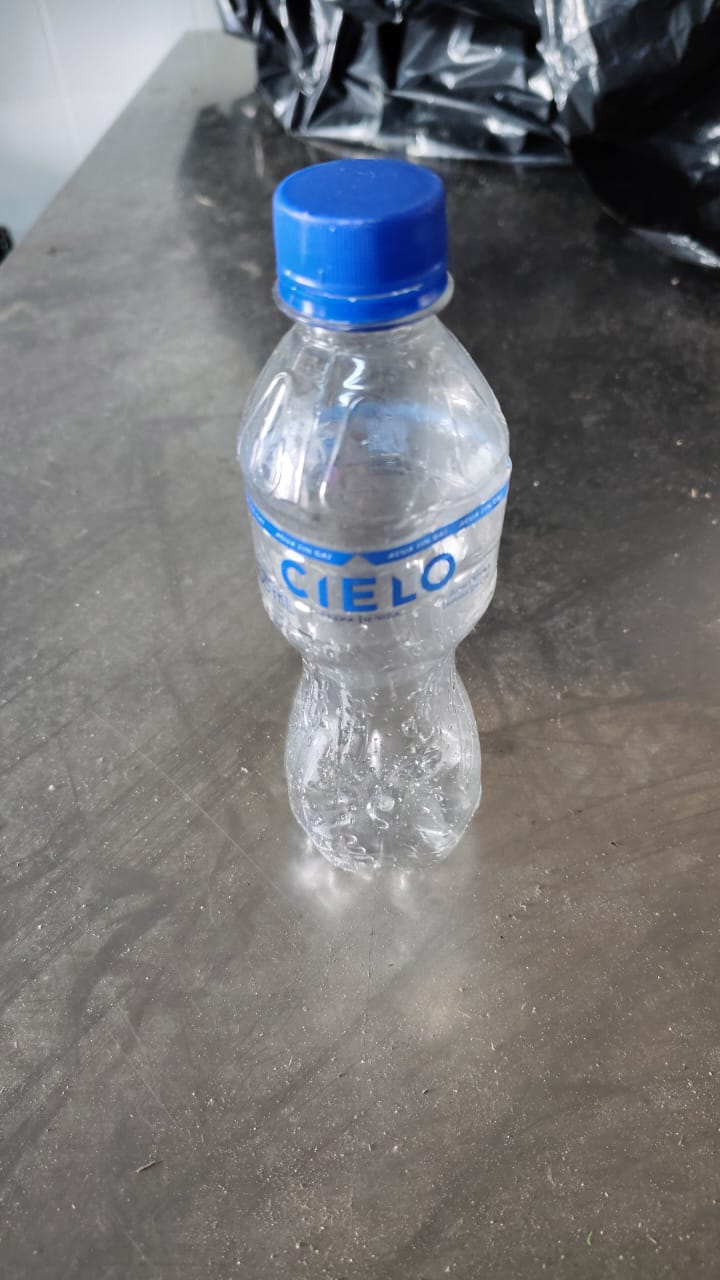Plastico: (239, 159, 509, 880)
